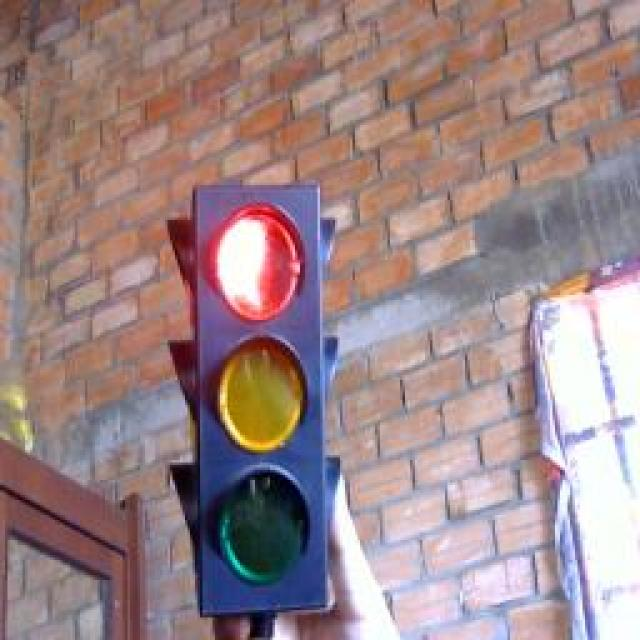-: (202, 197, 312, 327)
